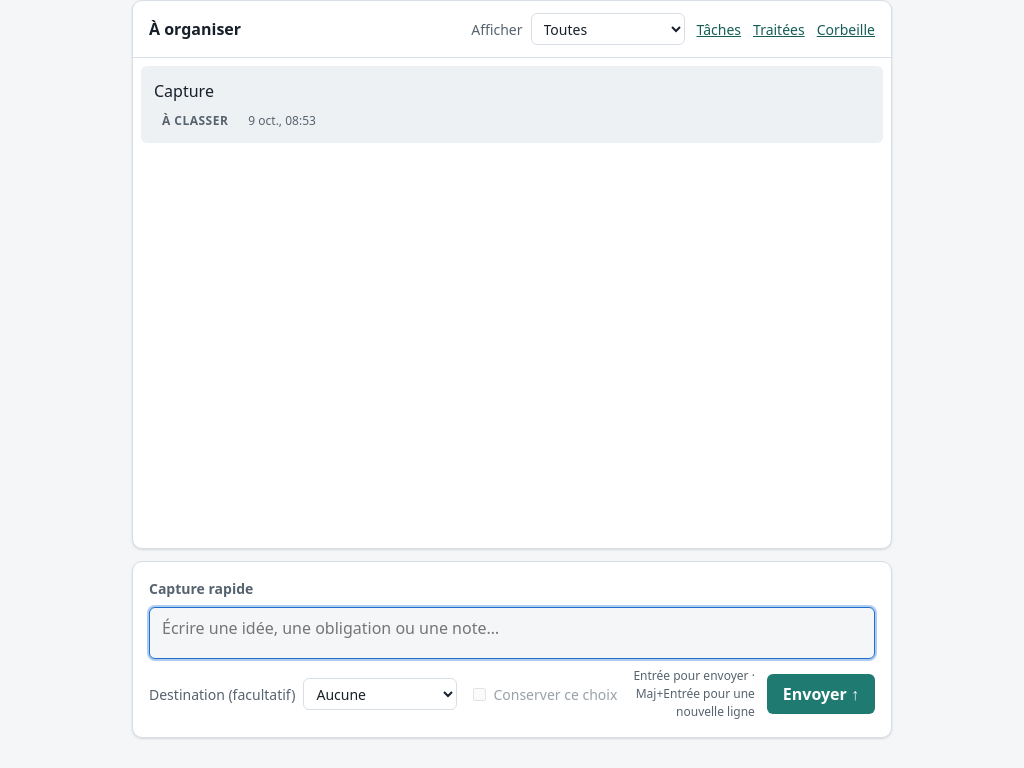
Test: 003-A — ouverture de la grande modale › le panneau intégré de la brique 002 n'existe plus
The image size is (1024, 768).
Click the button "Capture À classer 9 oct., 08:53".
click(184, 91)  # box x1=142 y1=67 x2=882 y2=142
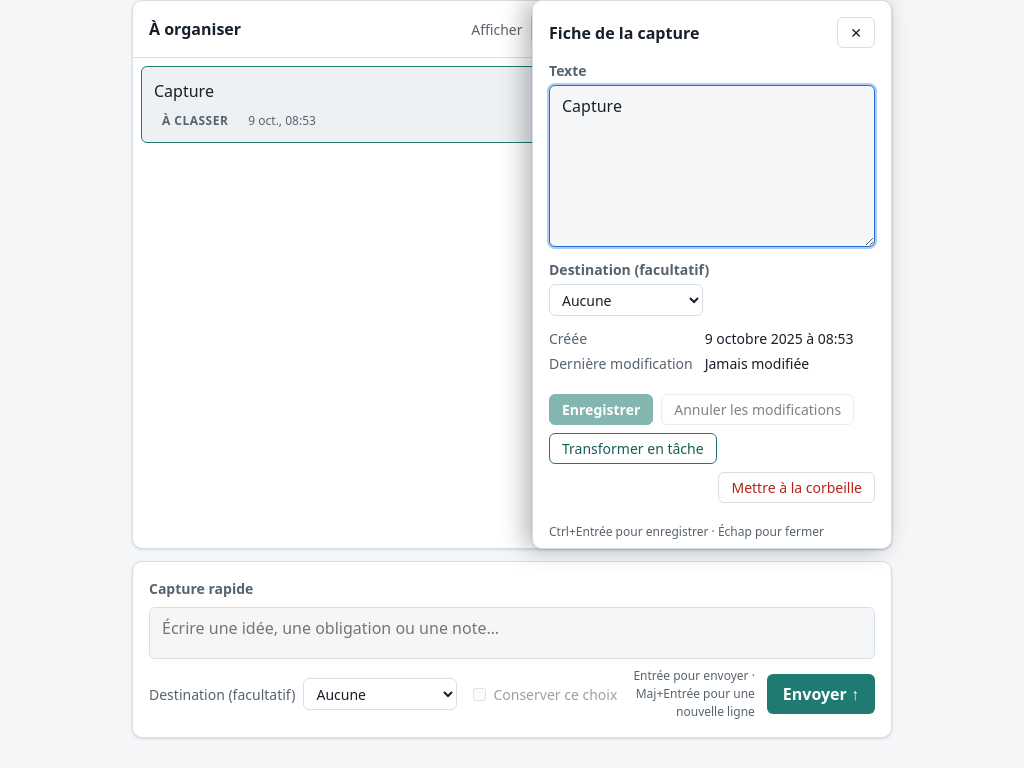
Click the button "Transformer en tâche".
click(633, 448)  # box x1=549 y1=433 x2=717 y2=464
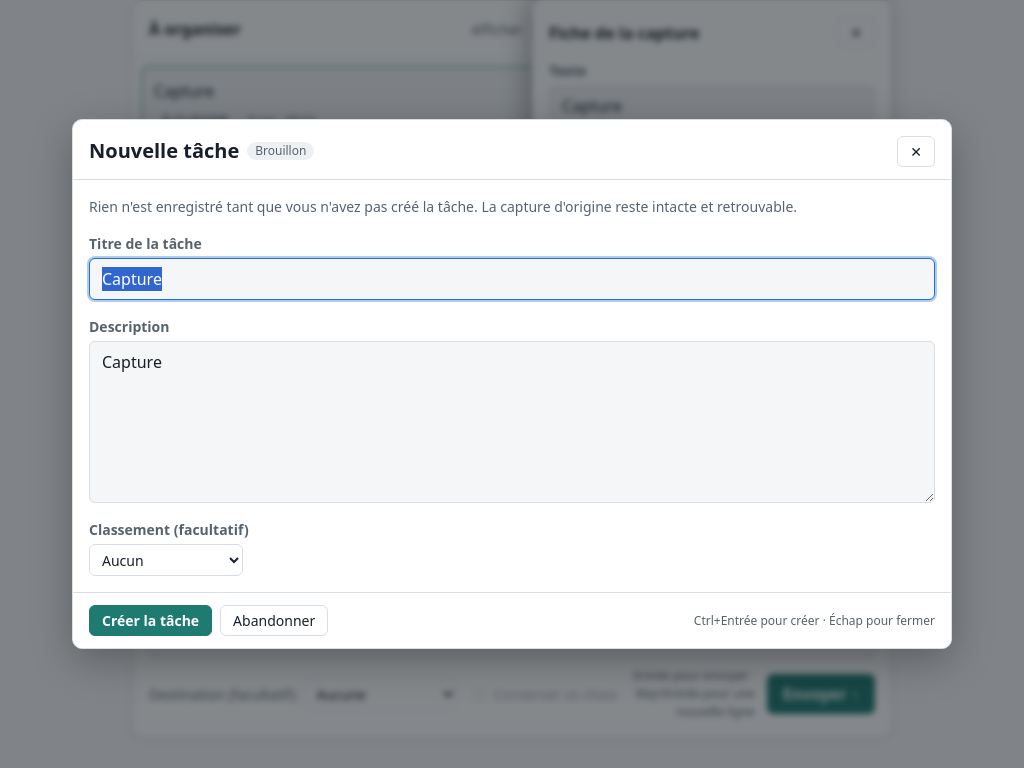
Expected: the dialog "Nouvelle tâche" is shown, x1=72 y1=119 x2=952 y2=649
Expected: the field labelled "Titre de la tâche" holds "Capture", x1=89 y1=258 x2=935 y2=300
